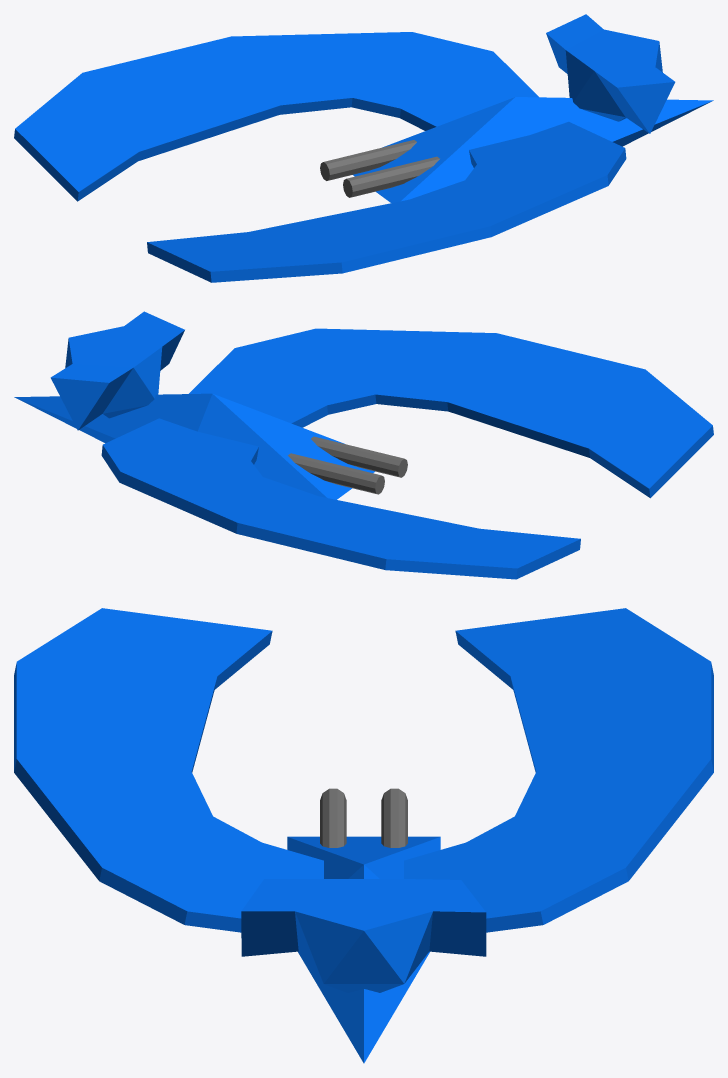
Rendered from hornet.fbx.
3 renders of one model, top to bottom at view 1: azimuth 30°, elevation 25°; view 2: azimuth 150°, elevation 25°; view 3: azimuth 270°, elevation 25°, orthographic. The views are drawn at different scales.
Parts seen in each view (by area): view 1: hornet; view 2: hornet; view 3: hornet.
Part boxes in pixels (x1,y1,x2,y2): hornet: (14, 14, 713, 282); hornet: (14, 311, 713, 579); hornet: (14, 608, 713, 1063).
Size of the model in its own units: 1212 by 240 by 912.
